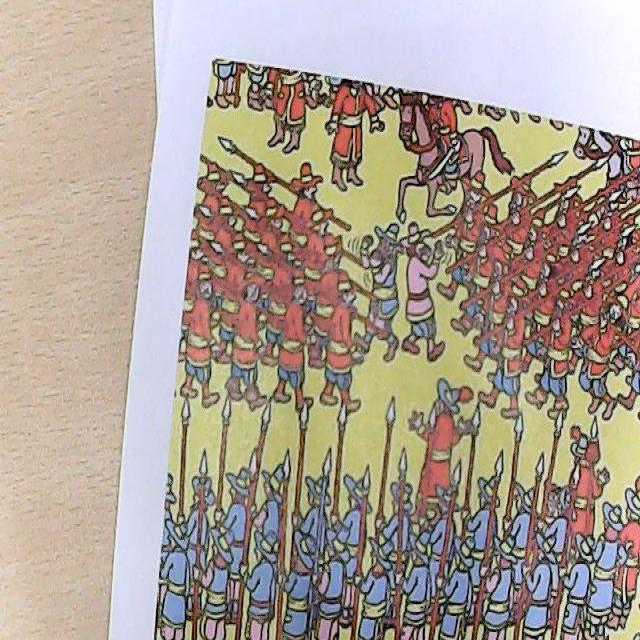waldo: (543, 475, 562, 517)
